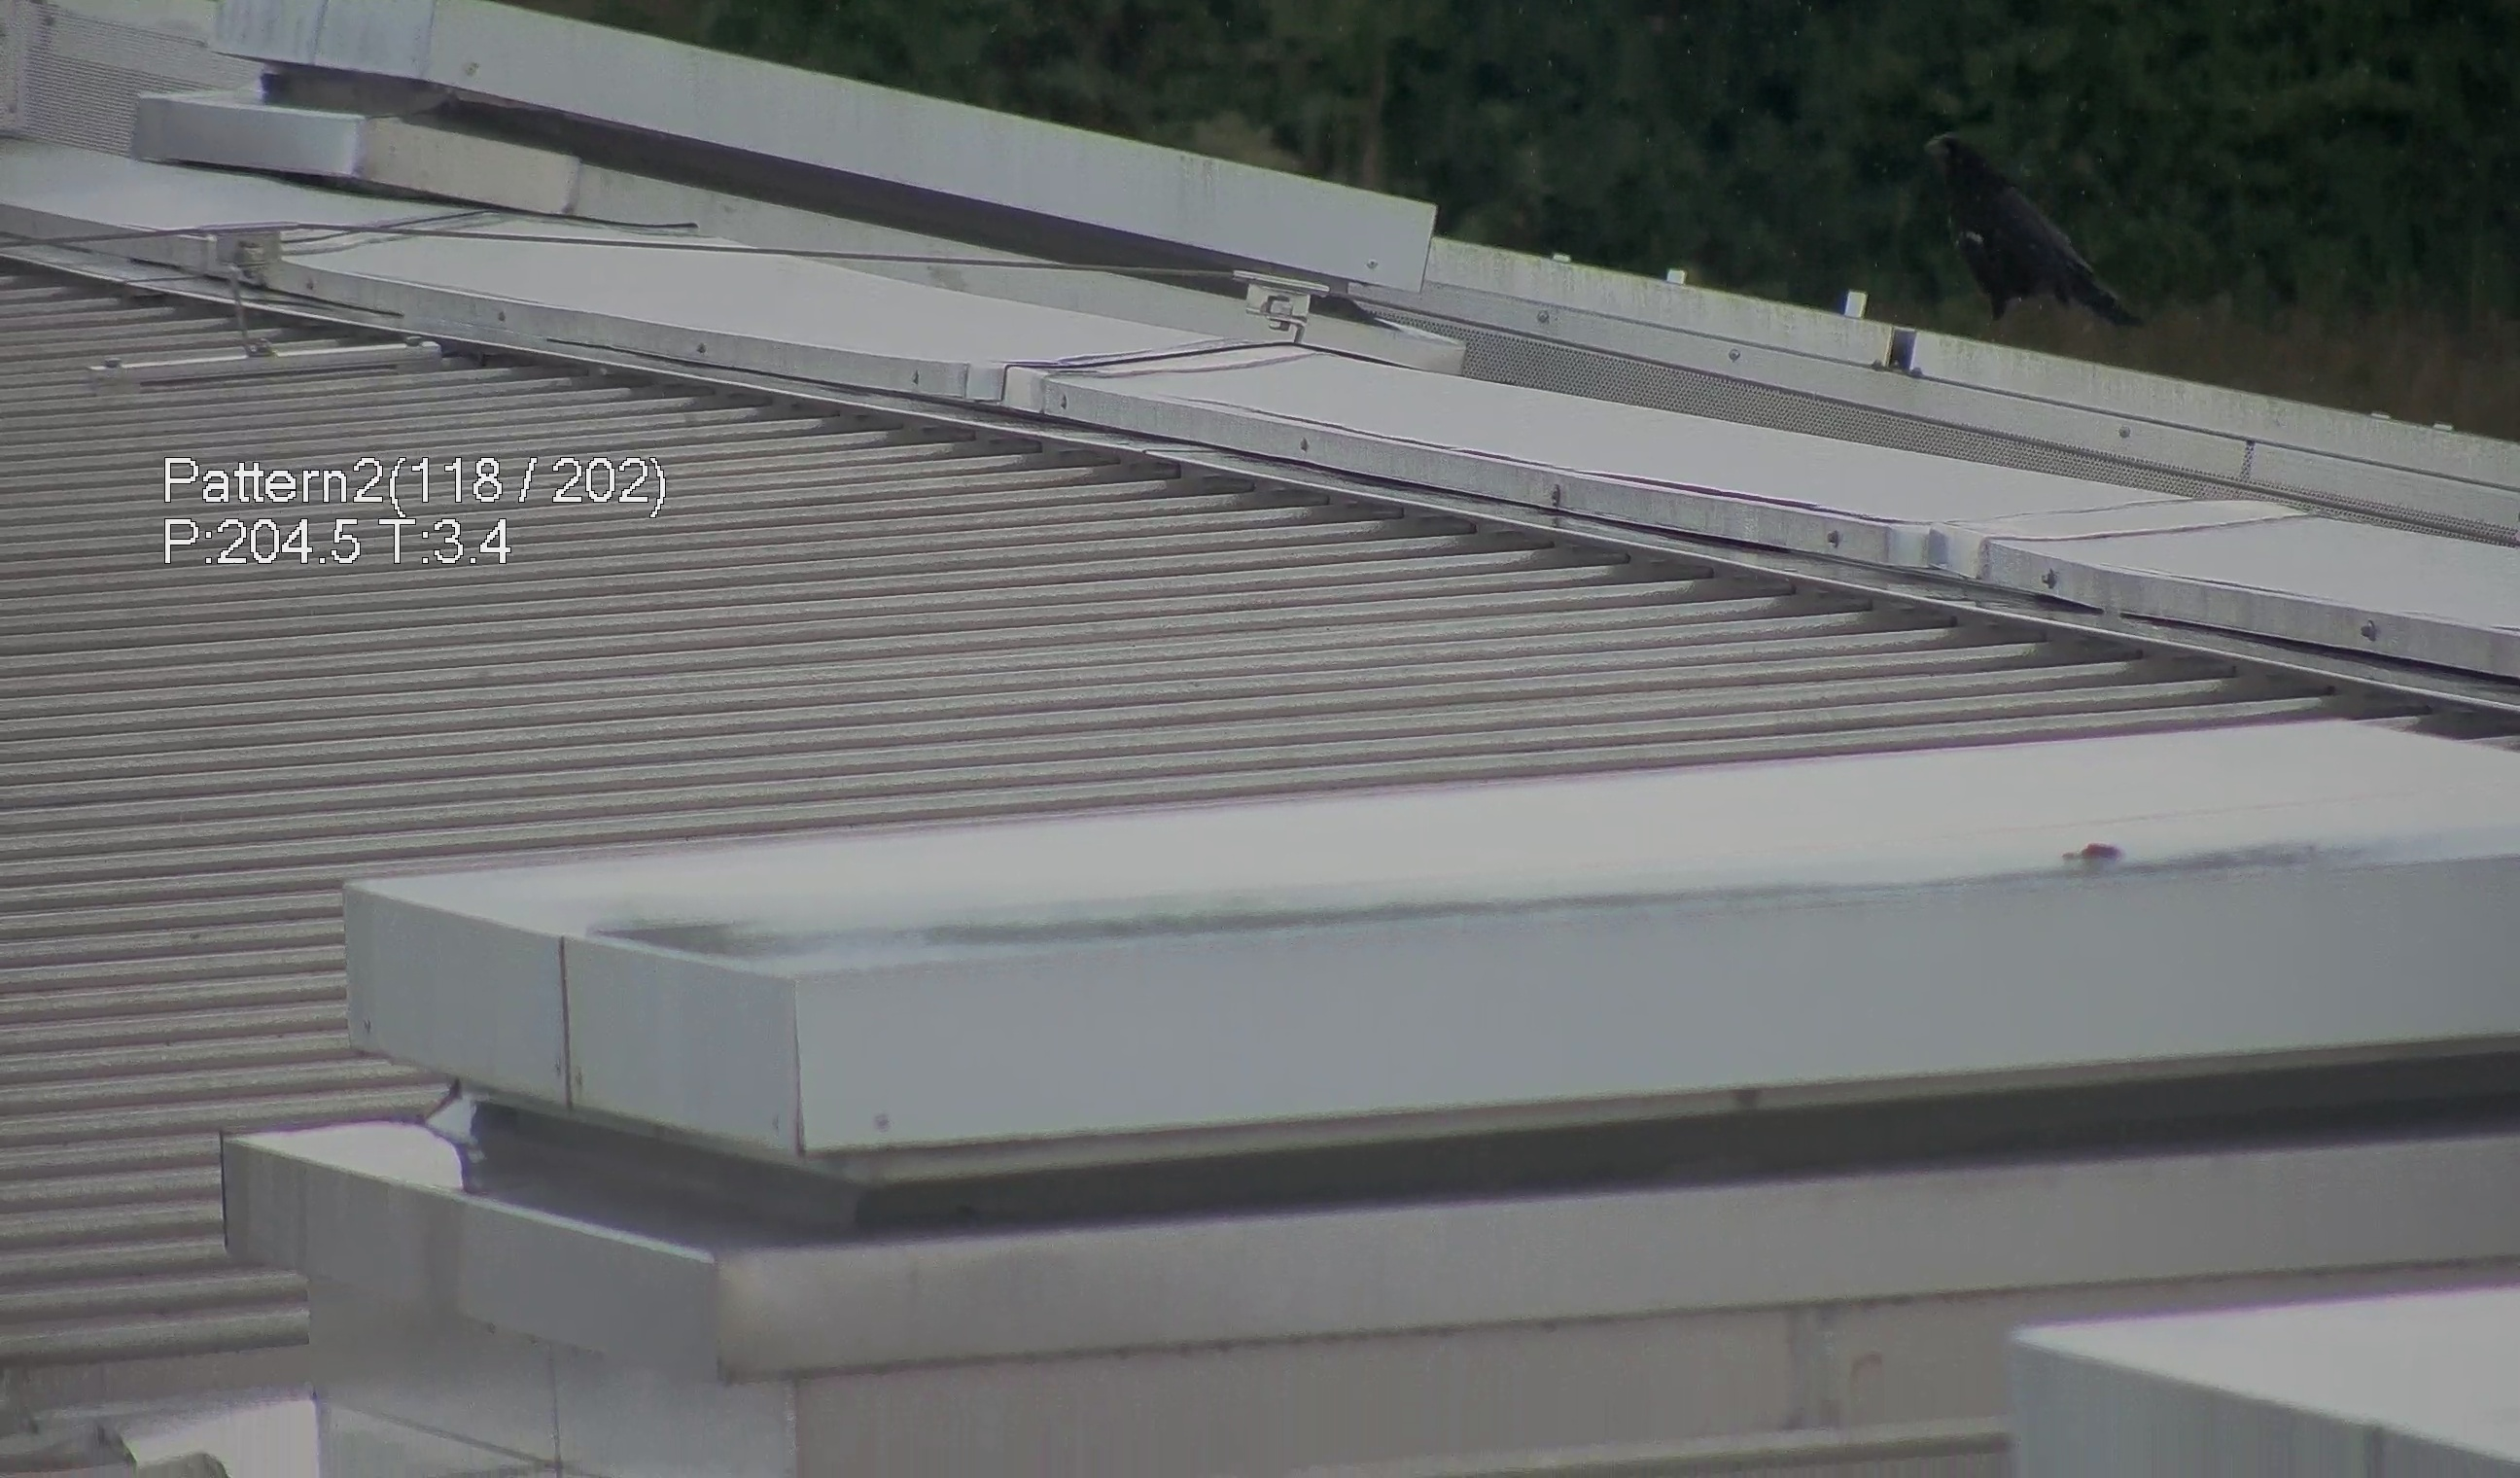Other: (1924, 125, 2154, 345)
